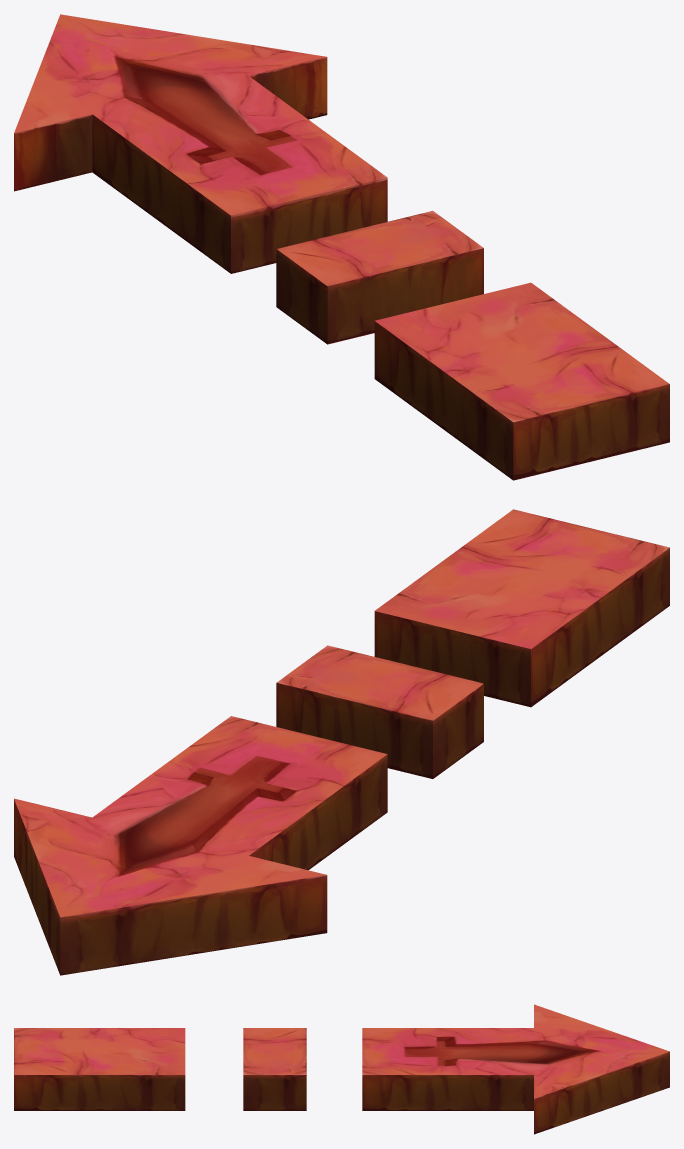
The model's file is CZB_3D_Attack_Arrow_EXP.FBX.
3 views of the same model, one above another, from view 1: azimuth 30°, elevation 25°; view 2: azimuth 150°, elevation 25°; view 3: azimuth 270°, elevation 25° (orthographic). The views are drawn at different scales.
Visible parts, largest first — view 1: Attack Arrow Tip, Attack Arrow Box Long, Attack Arrow Box Regular; view 2: Attack Arrow Tip, Attack Arrow Box Long, Attack Arrow Box Regular; view 3: Attack Arrow Tip, Attack Arrow Box Long, Attack Arrow Box Regular.
Boxes of the visible parts, x1=… form: Attack Arrow Tip: x1=14, y1=14, x2=387, y2=273; Attack Arrow Box Long: x1=374, y1=282, x2=669, y2=480; Attack Arrow Box Regular: x1=276, y1=211, x2=483, y2=344; Attack Arrow Tip: x1=14, y1=716, x2=387, y2=975; Attack Arrow Box Long: x1=374, y1=509, x2=669, y2=707; Attack Arrow Box Regular: x1=276, y1=645, x2=483, y2=778; Attack Arrow Tip: x1=362, y1=1004, x2=669, y2=1134; Attack Arrow Box Long: x1=14, y1=1028, x2=185, y2=1110; Attack Arrow Box Regular: x1=243, y1=1028, x2=306, y2=1110.
Size of the model in its own units: 19.54 by 3.47 by 57.42.
1 material, 1 textured.
